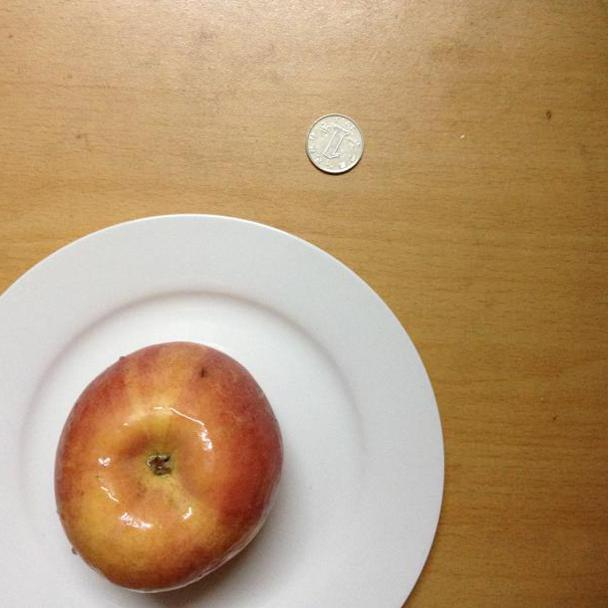apple: (56, 341, 284, 592)
